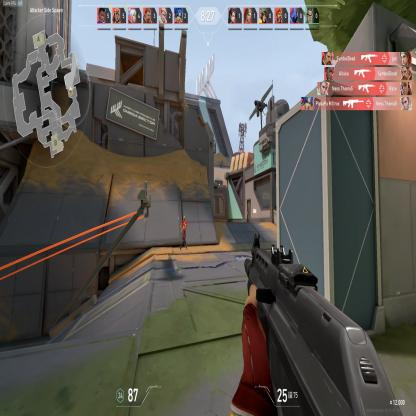enemy: (179, 214, 188, 252)
